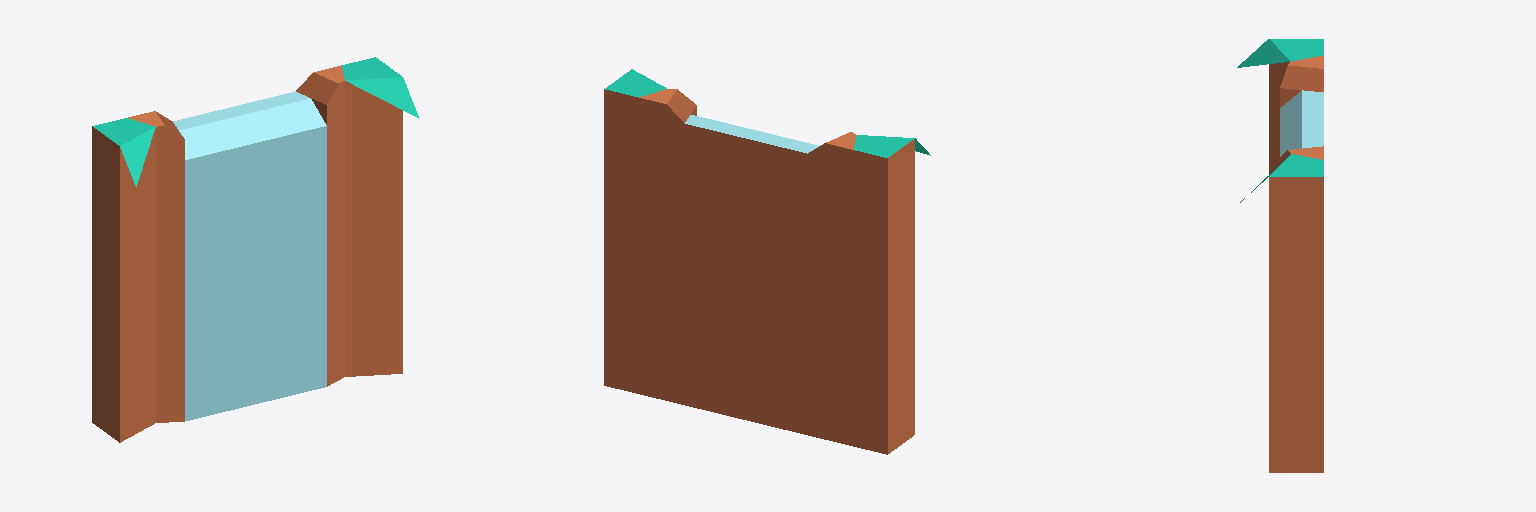
Rendered from cliff_waterfallTop_rock.obj.
The picture shows the model from 3 angles: view 1: azimuth 30°, elevation 25°; view 2: azimuth 150°, elevation 25°; view 3: azimuth 270°, elevation 25°; orthographic projection.
Parts seen in each view (by area): view 1: cliff_waterfallTop_rock; view 2: cliff_waterfallTop_rock; view 3: cliff_waterfallTop_rock.
Boxes of the visible parts, <box> form: cliff_waterfallTop_rock: <box>92,57,419,442</box>; cliff_waterfallTop_rock: <box>604,69,930,454</box>; cliff_waterfallTop_rock: <box>1237,39,1323,472</box>.
Bounding box in the file's own units: 1 × 1 × 0.2685.